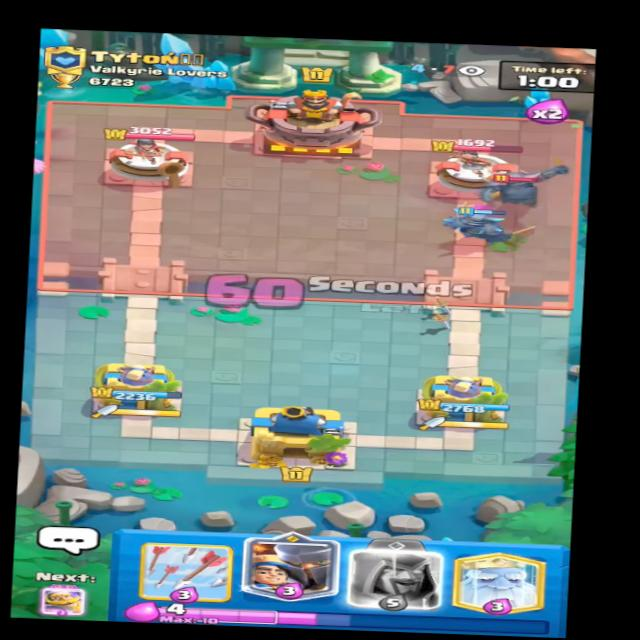pekka: (474, 162, 558, 214)
